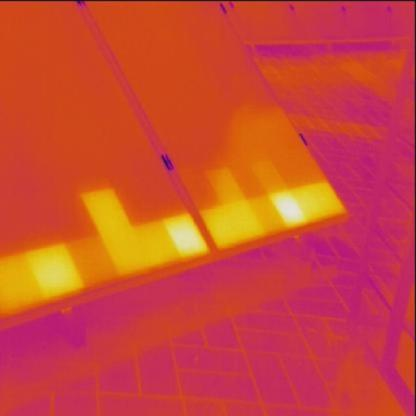anomaly: (0, 188, 209, 313), (203, 183, 342, 244)
